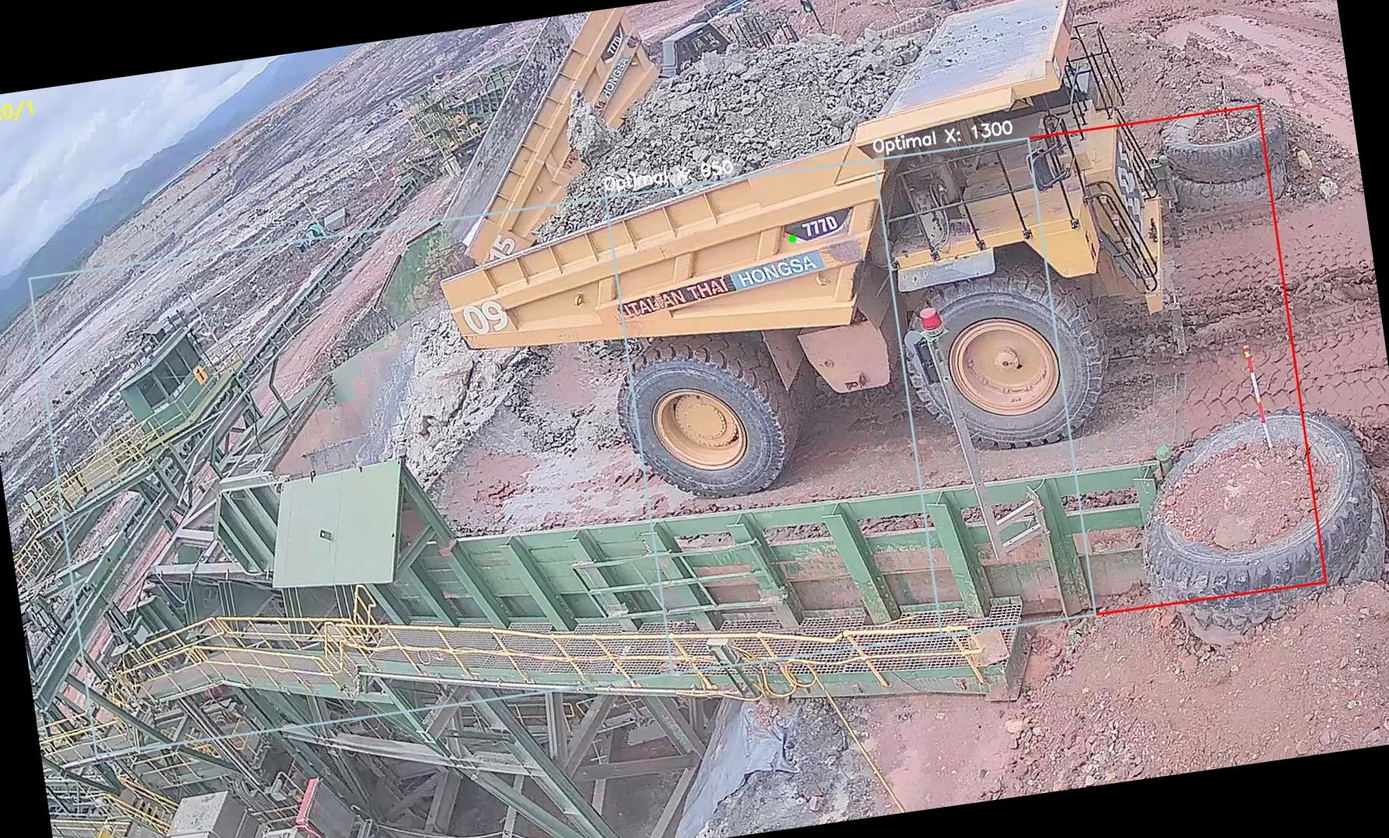company: (599, 241, 838, 326)
full_load: (554, 14, 921, 216)
mining_truck: (394, 0, 1239, 540)
tail_number: (454, 290, 520, 345)
truck_size: (779, 206, 855, 245)
